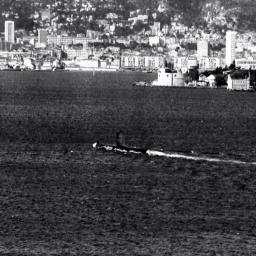submarine: (94, 130, 157, 154)
